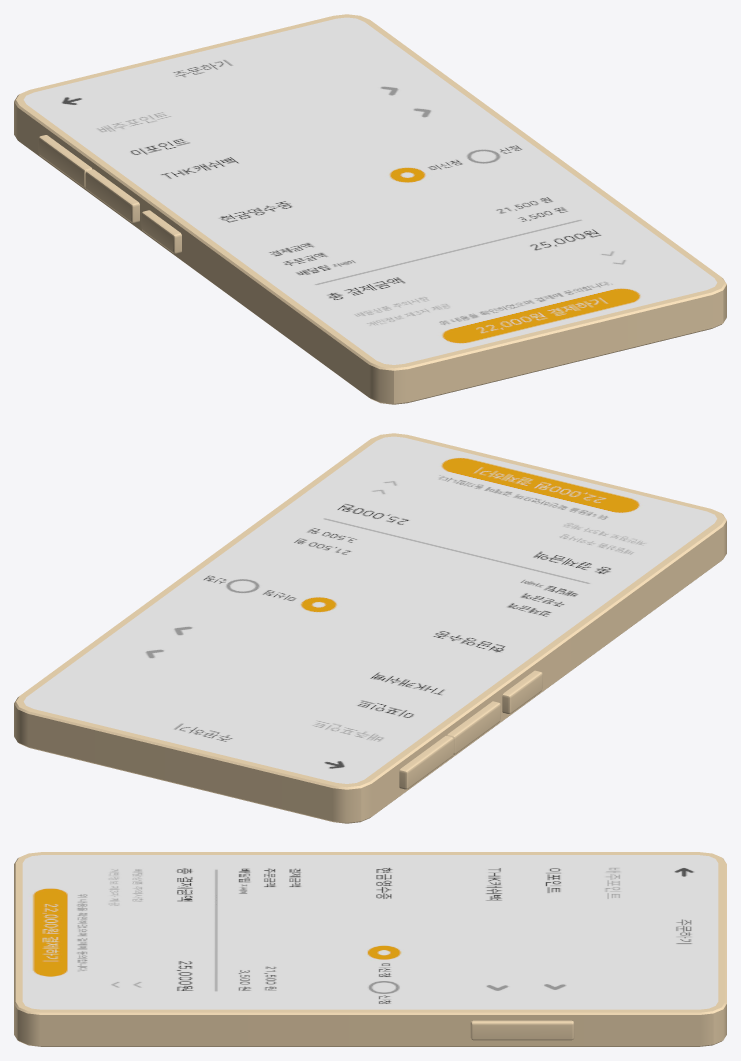
The model's file is AaraP_3500won.fbx.
3 views of the same model, one above another, from view 1: azimuth 30°, elevation 25°; view 2: azimuth 150°, elevation 25°; view 3: azimuth 270°, elevation 25° (orthographic). The views are drawn at different scales.
Visible parts, largest first — view 1: AaraPhone_3500won; view 2: AaraPhone_3500won; view 3: AaraPhone_3500won.
Part boxes in pixels (x1,y1,x2,y2): AaraPhone_3500won: (14,14,726,404); AaraPhone_3500won: (14,433,726,823); AaraPhone_3500won: (14,852,726,1046).
Bounding box in the file's own units: 0.00458 × 0.000554 × 0.00822.
Materials: 4 (3 with a texture image).
